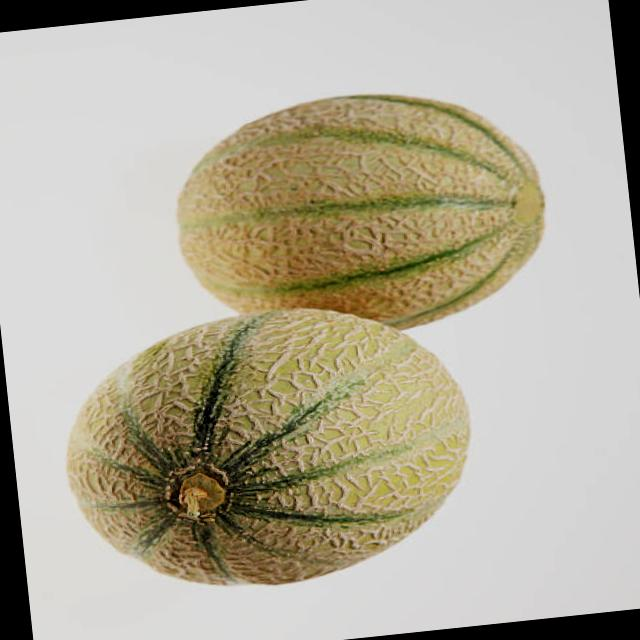cantaloupe: (49, 291, 489, 605), (165, 77, 558, 350)
